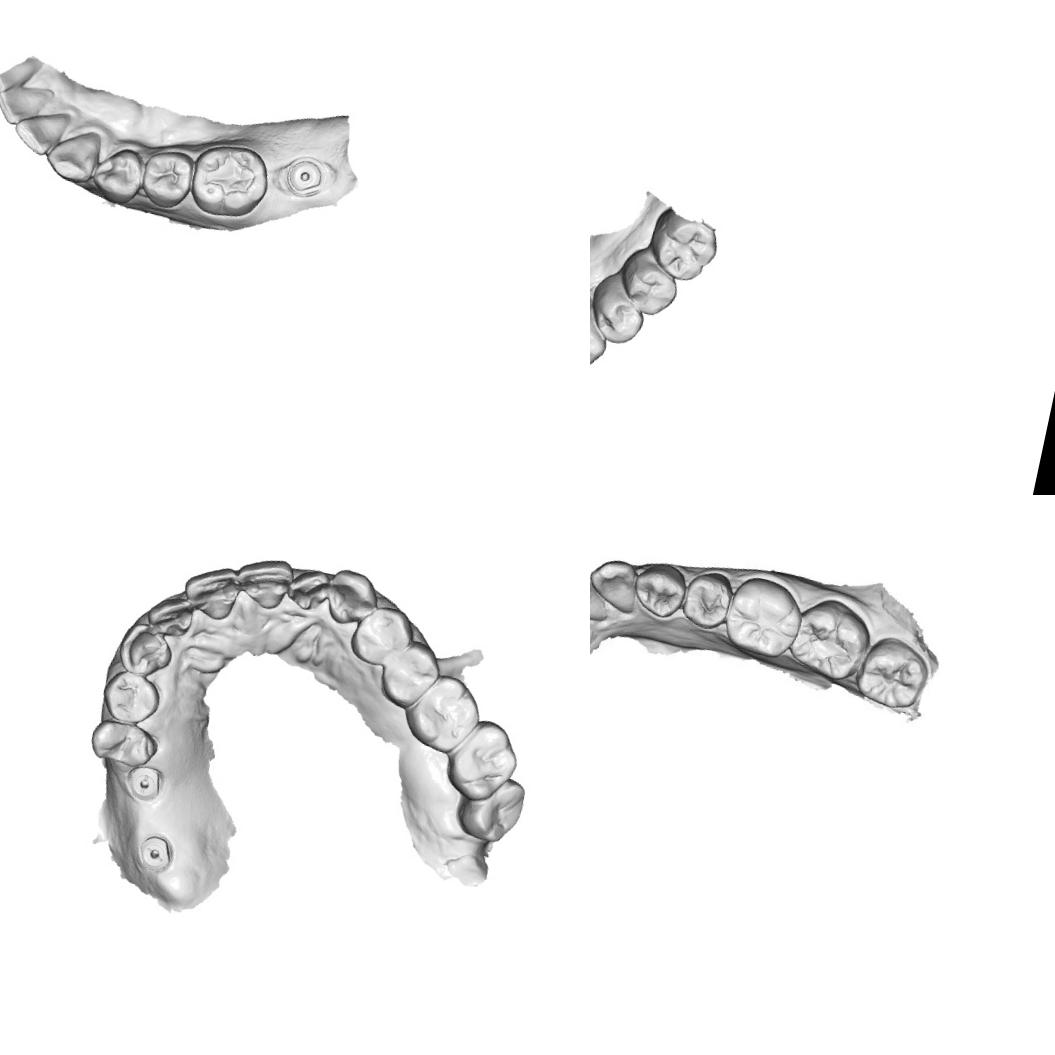canine: (41, 121, 104, 190), (114, 619, 178, 682), (322, 565, 384, 630), (590, 552, 646, 621), (590, 286, 617, 377)
implant: (280, 154, 330, 201)
implant_minus: (132, 830, 178, 876), (121, 761, 168, 806)
incisor: (229, 550, 298, 613), (179, 559, 244, 623), (8, 100, 72, 160), (0, 73, 59, 133), (143, 589, 197, 640), (283, 564, 333, 615), (590, 567, 624, 631)
molar: (718, 570, 810, 667), (182, 136, 276, 226), (439, 712, 525, 808), (399, 668, 488, 760), (787, 594, 871, 682), (642, 202, 724, 286), (851, 630, 931, 713), (452, 768, 530, 848)
premolar: (375, 634, 447, 715), (345, 599, 419, 673), (614, 244, 686, 320), (590, 265, 654, 349), (134, 143, 199, 216), (85, 715, 164, 772), (85, 139, 148, 210), (96, 667, 165, 728), (632, 563, 684, 625), (684, 570, 732, 631)
